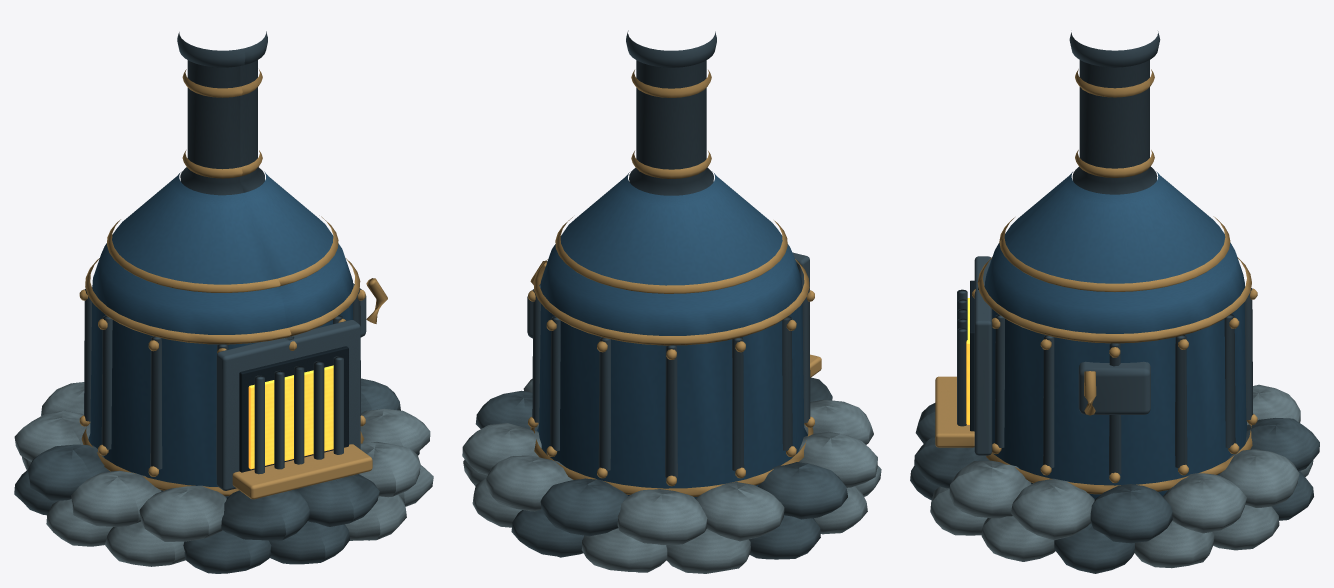
File: furnace.glb
3 views of the same model, side by side, from view 1: azimuth 30°, elevation 25°; view 2: azimuth 150°, elevation 25°; view 3: azimuth 270°, elevation 25° (orthographic).
Visible parts, largest first — view 1: furnace; view 2: furnace; view 3: furnace.
Part boxes in pixels (<box>): furnace: <box>14,31,433,573</box>; furnace: <box>462,30,881,573</box>; furnace: <box>910,31,1319,573</box>.
Size of the model in its own units: 2.03 by 2.49 by 1.99.
Materials: 7 (7 with a texture image).
